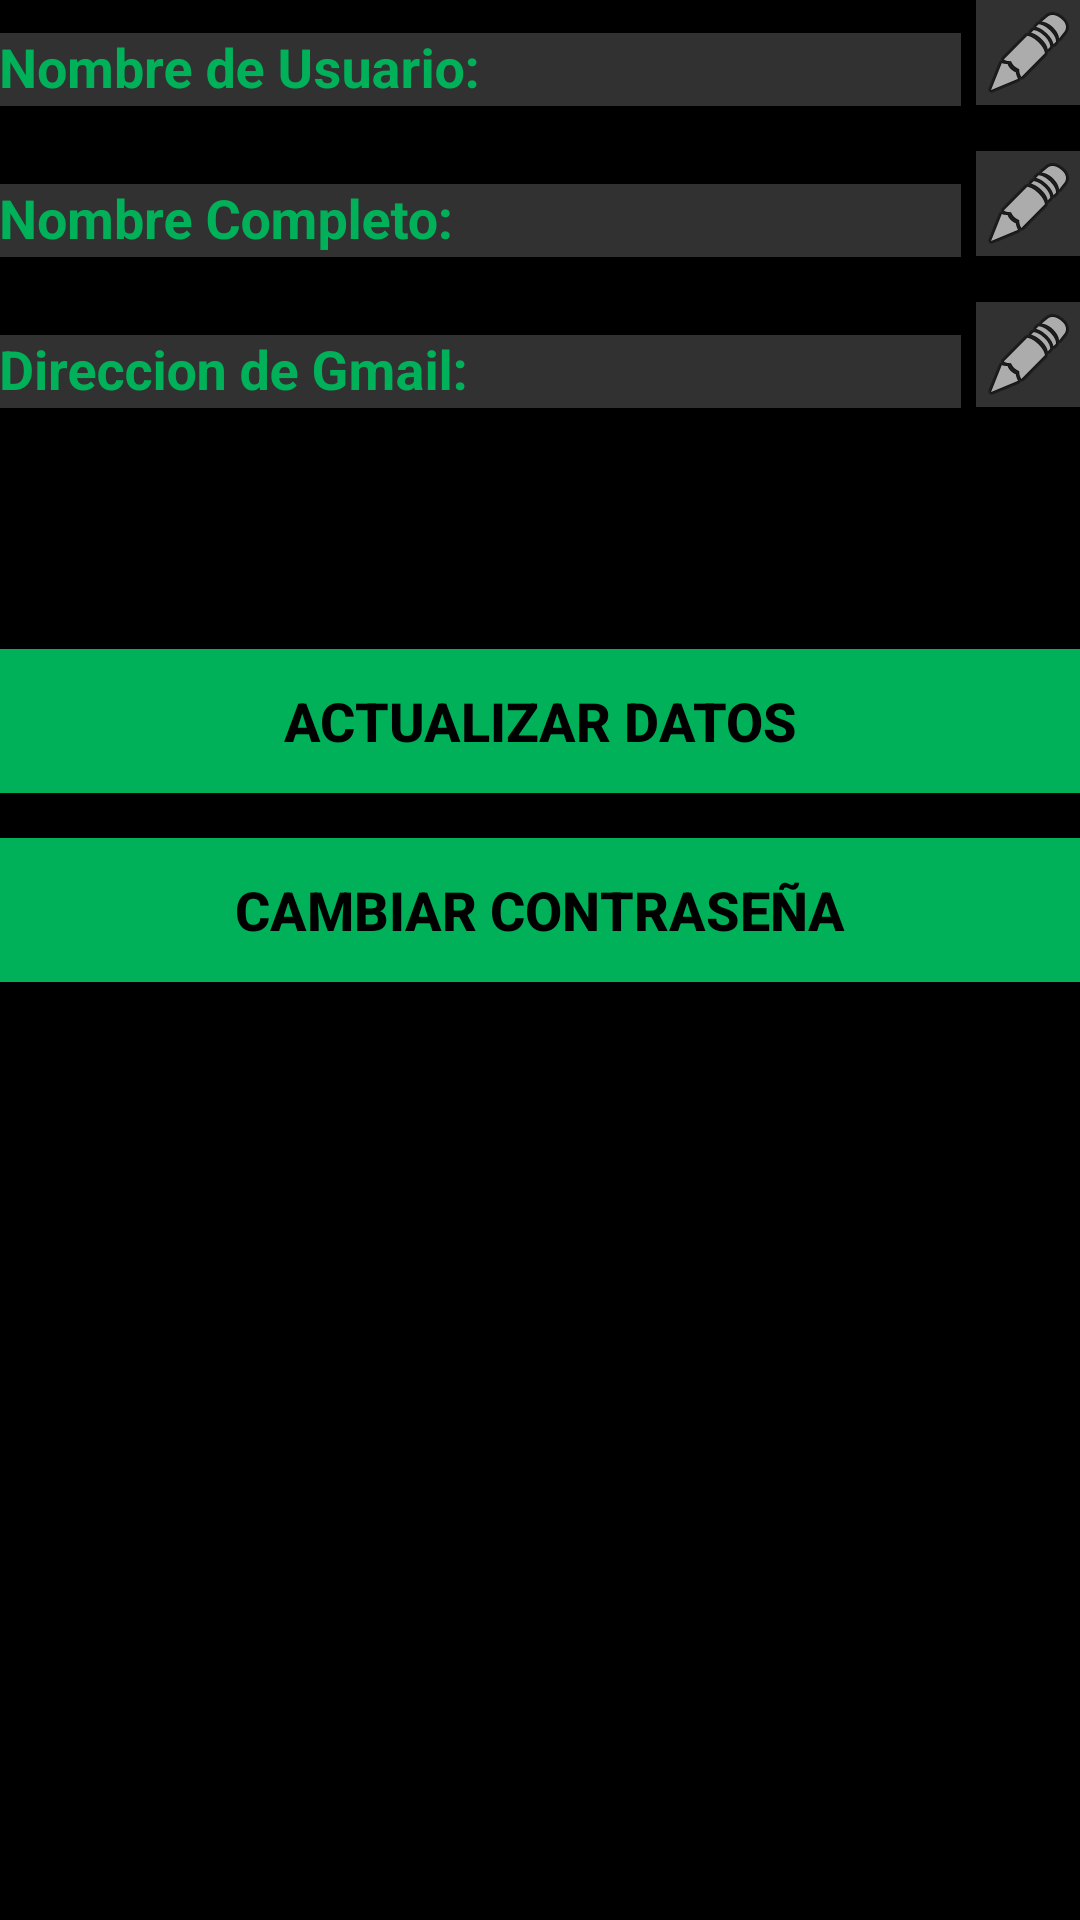

Icons on this 1080w x 1920h Android screen, each with its box as (x1, y1, x2, y2):
edit: (976, 0, 1080, 105), (976, 151, 1080, 256), (976, 302, 1080, 407)
